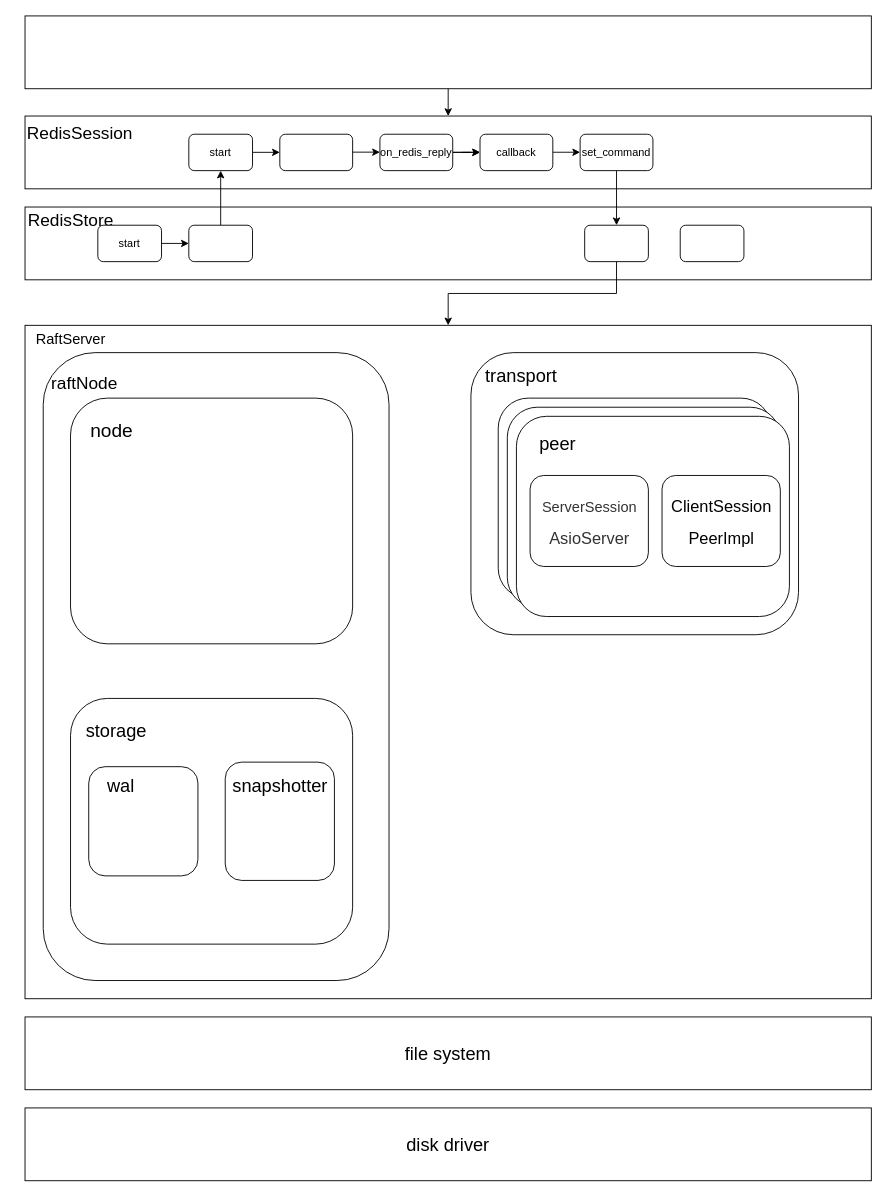
This 887x1197 diagram has some shape labels left out. The shapes that lost their labels are listed below. From the top down, each one's centre as x and y in pixels, then its label:
At (447,52): "apply".
At (316,152): "handle_read".
At (220,243): "start_accept".
At (616,243): "set".
At (711,243): "del".
